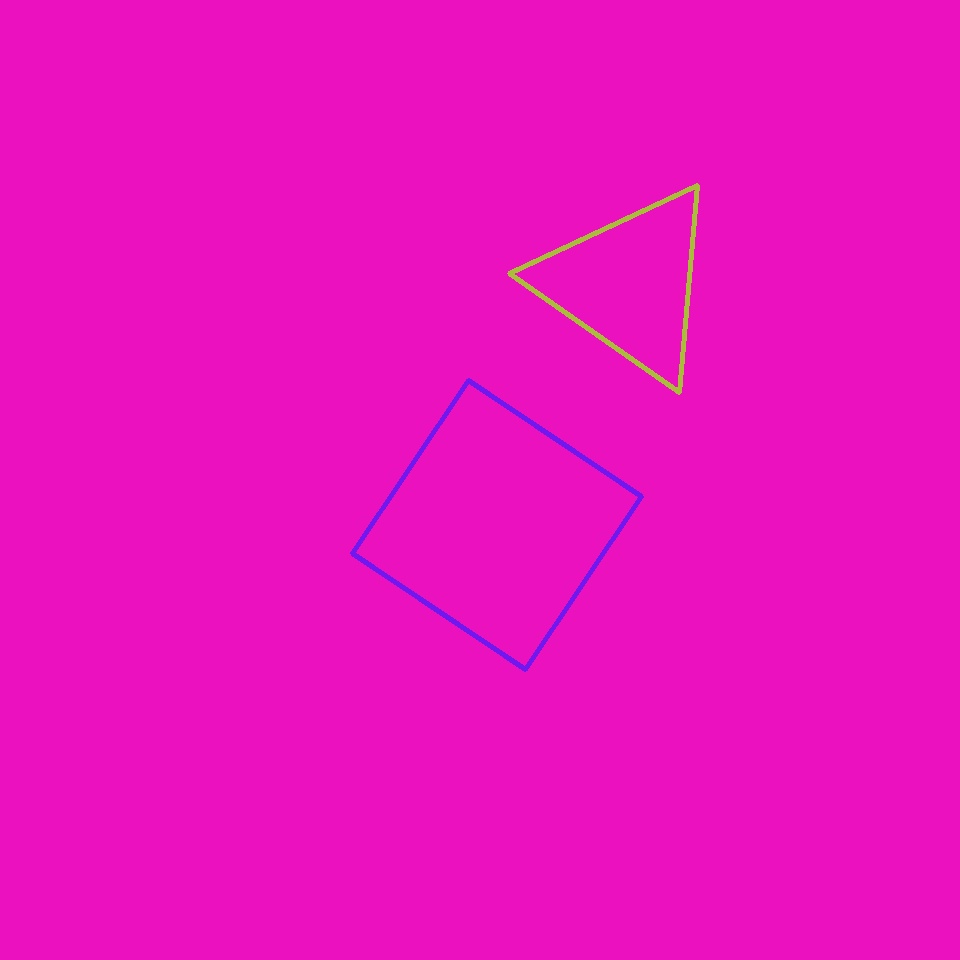circle: (535, 180, 723, 388)
square: (352, 380, 642, 670)
